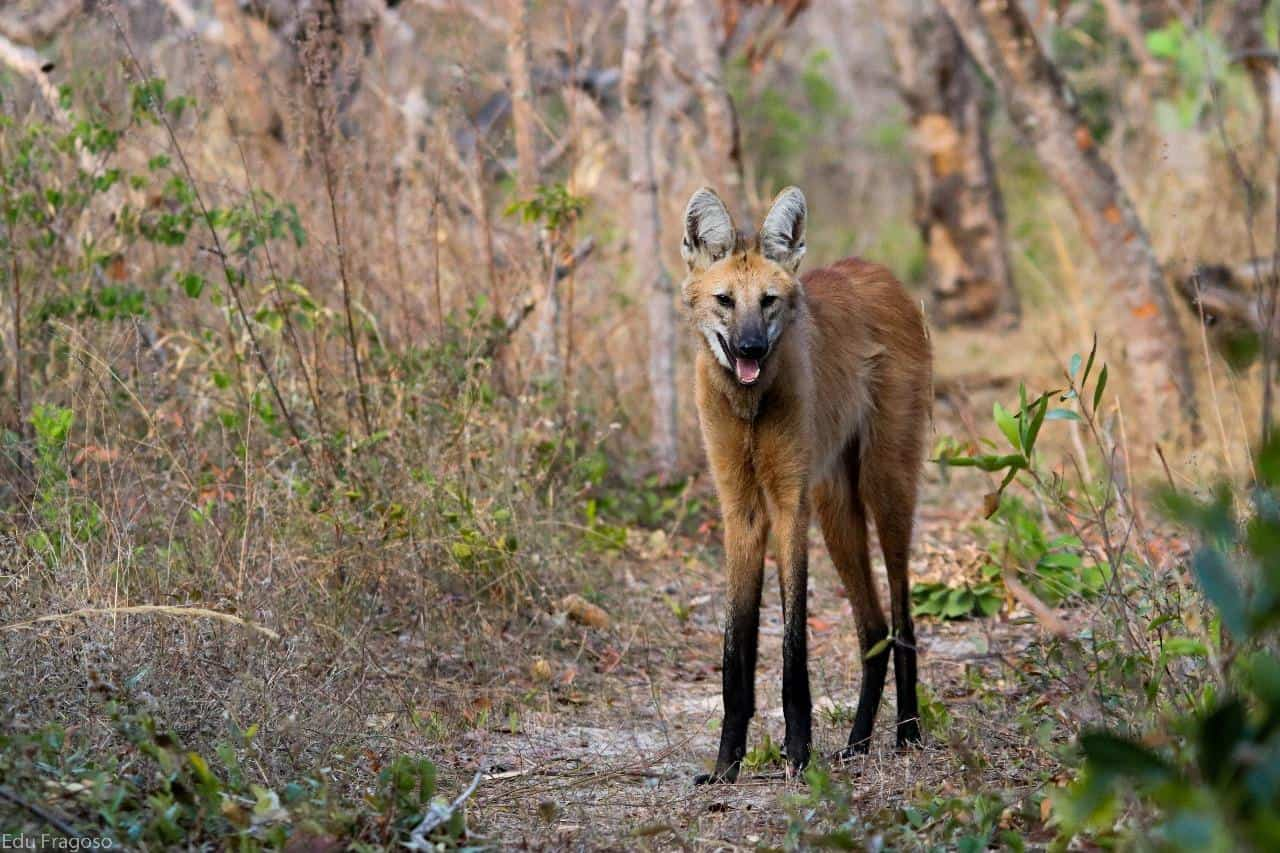LoboGuara: (648, 180, 950, 793)
